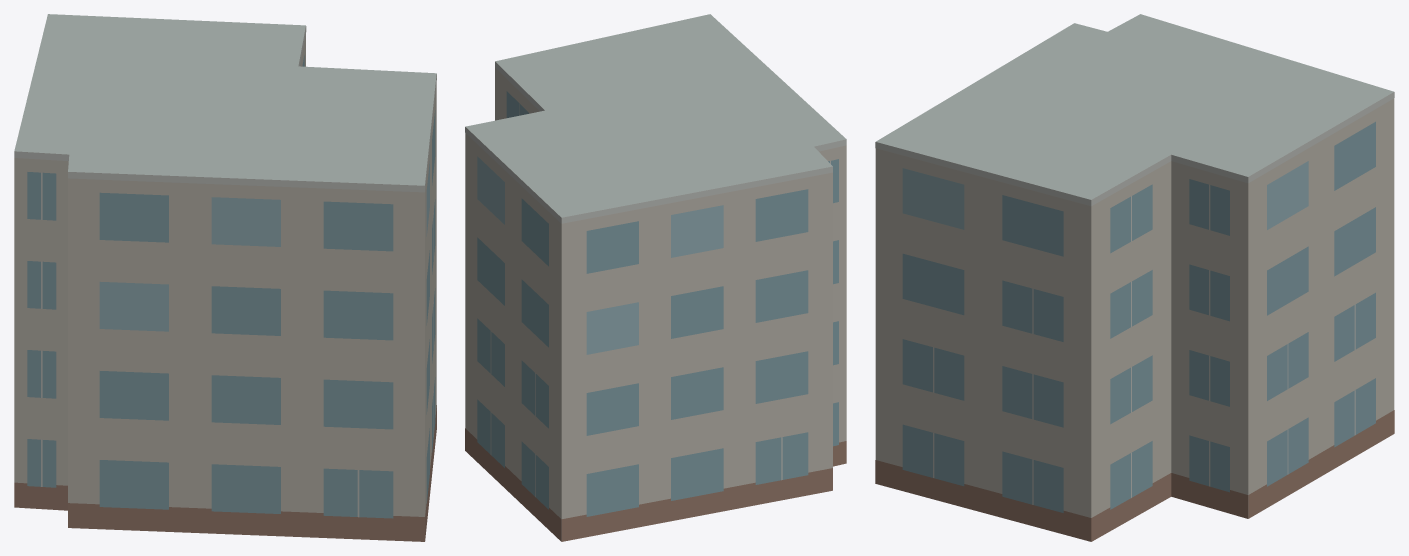
The model's file is survey-upis-32866784.glb.
The picture shows the model from 3 angles, left to right: view 1: azimuth 30°, elevation 25°; view 2: azimuth 150°, elevation 25°; view 3: azimuth 270°, elevation 25°; orthographic projection. The views are drawn at different scales.
Parts seen in each view (by area): view 1: survey-upis-32866784.tmp; view 2: survey-upis-32866784.tmp; view 3: survey-upis-32866784.tmp.
Part boxes in pixels (x1,y1,x2,y2): survey-upis-32866784.tmp: [14, 14, 436, 541]; survey-upis-32866784.tmp: [465, 14, 846, 541]; survey-upis-32866784.tmp: [875, 14, 1394, 541].
Size of the model in its own units: 15.29 by 13.1 by 18.03.
